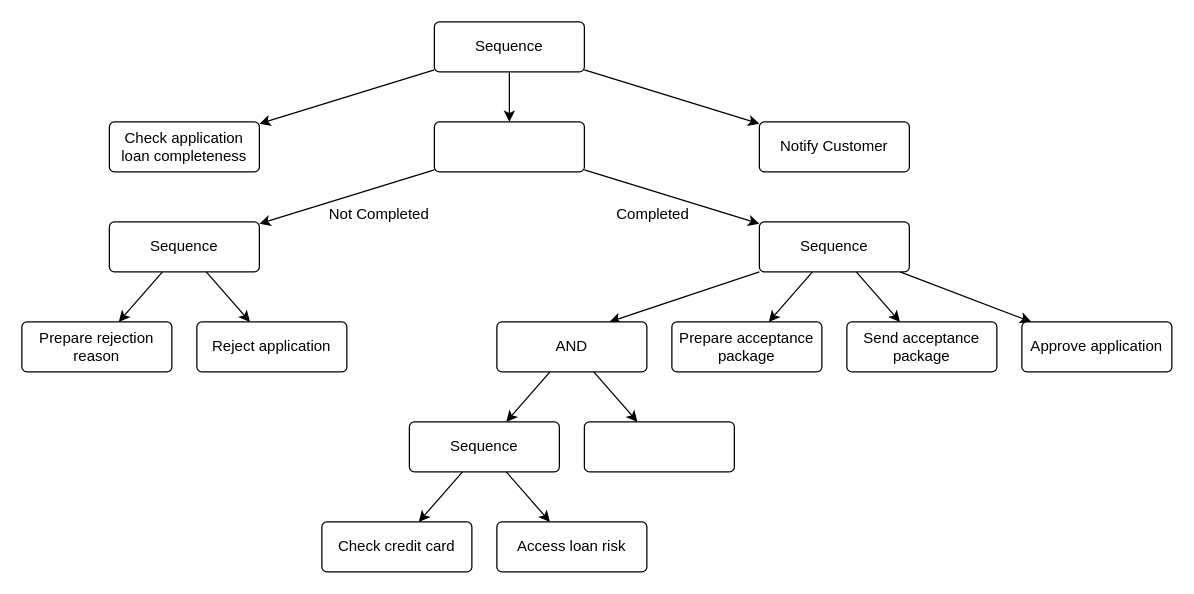
Image size: 1194x594. Some labels were removed from this diagram. Each missing label, with the box of its shape:
Appraise Property: (583, 421, 734, 472)
XOR: (433, 121, 584, 172)
